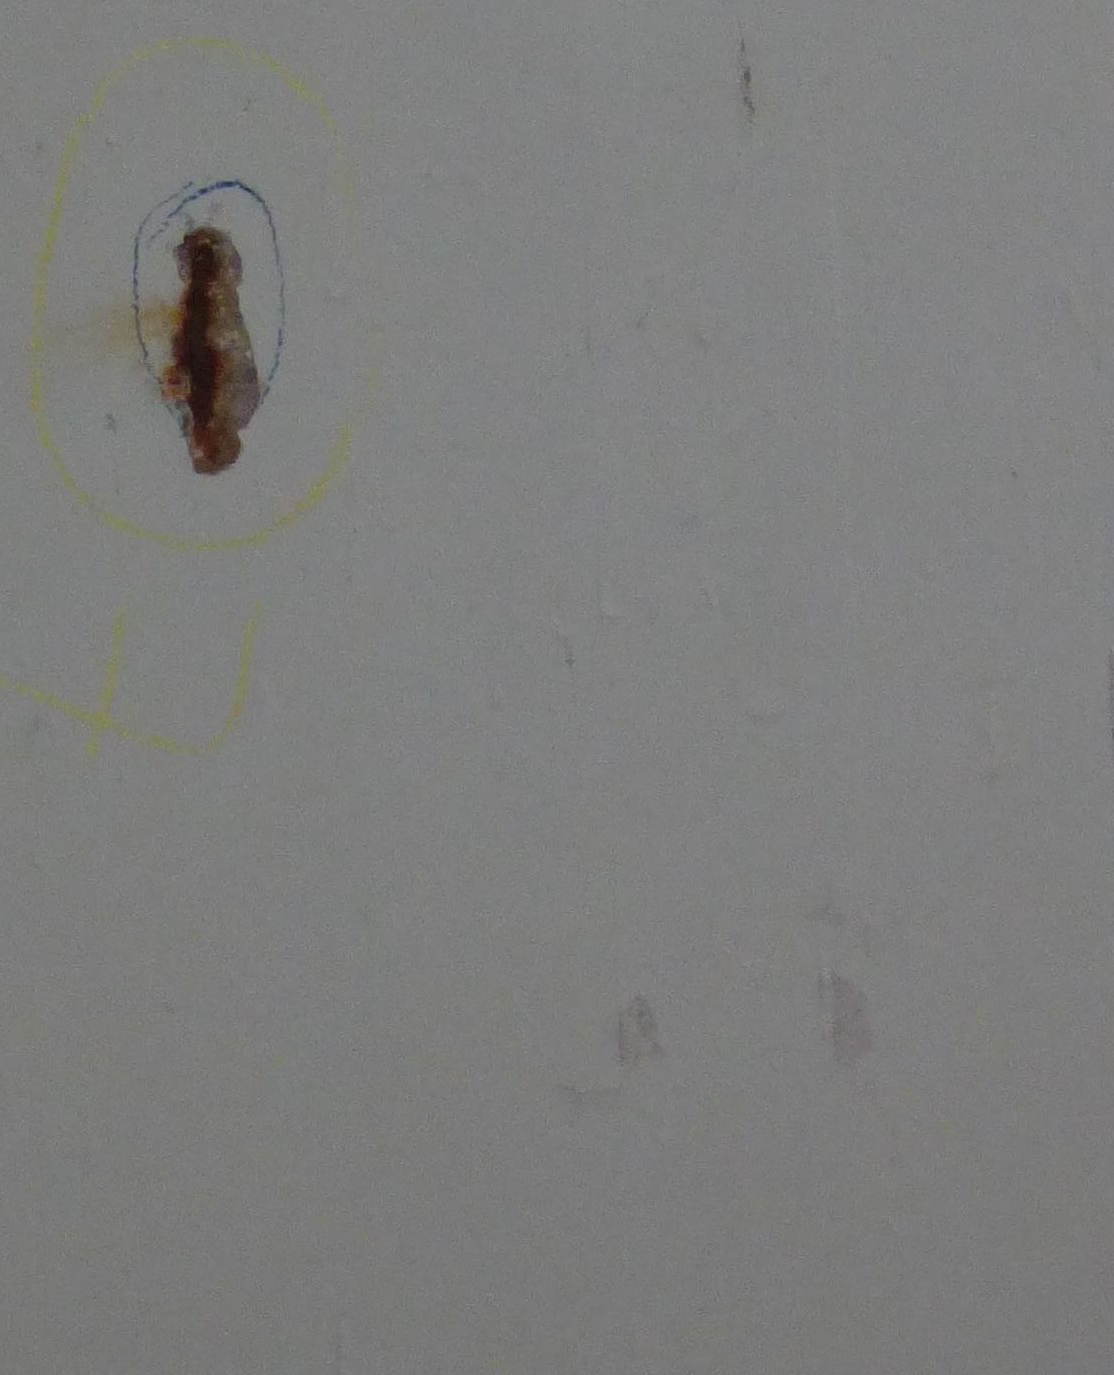Exposed reinforcement: (188, 244, 214, 424)
Spalling: (161, 226, 261, 476)
